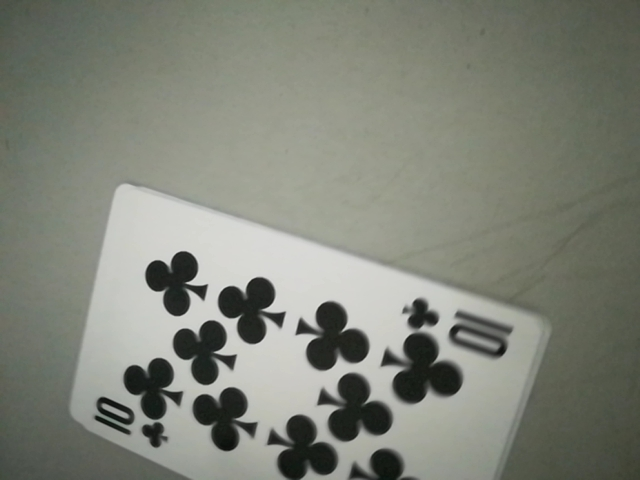mh 10: (400, 296, 529, 352), (89, 401, 173, 455)
